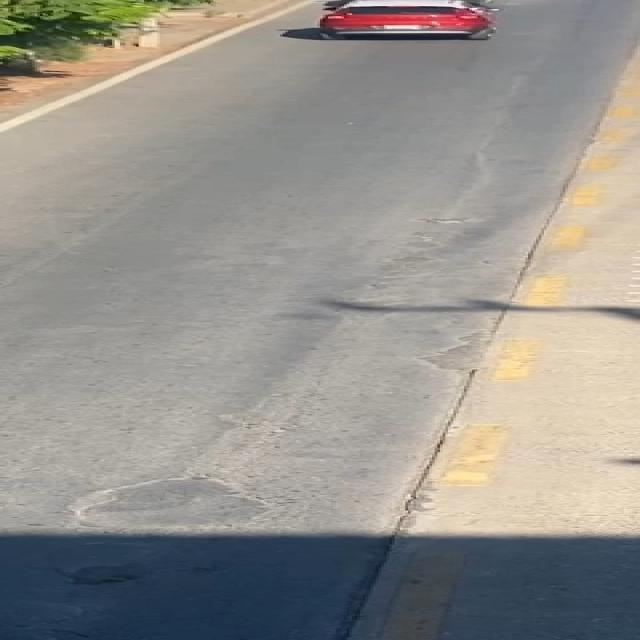car: (290, 0, 536, 47)
